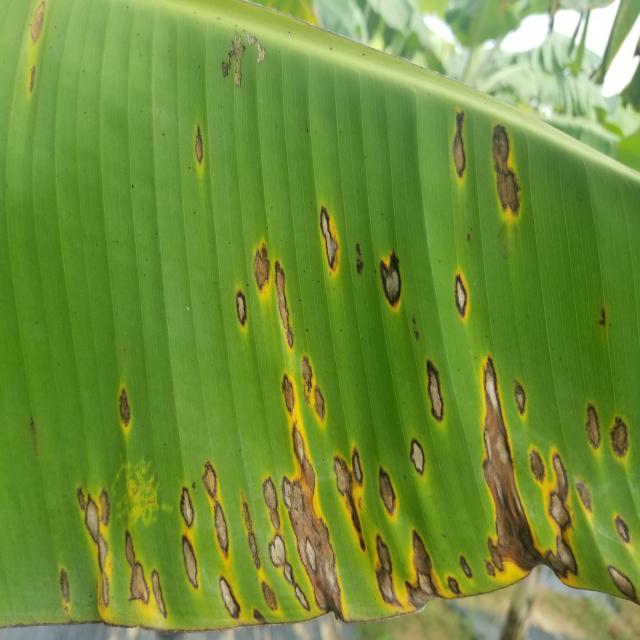Early_rust: (36, 32, 640, 621), (4, 0, 69, 132)
